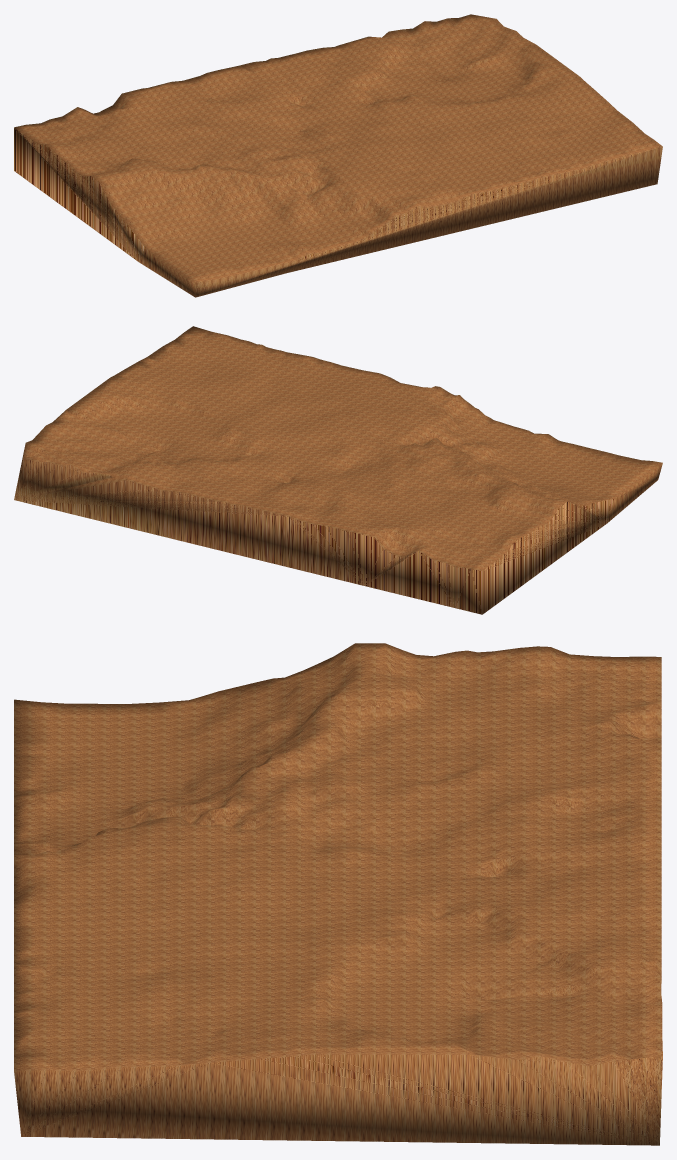
The model's file is Site1.glb.
3 renders of one model, top to bottom at view 1: azimuth 30°, elevation 25°; view 2: azimuth 150°, elevation 25°; view 3: azimuth 270°, elevation 25°, orthographic. The views are drawn at different scales.
Visible parts, largest first — view 1: Cube_Cube.001; view 2: Cube_Cube.001; view 3: Cube_Cube.001.
Boxes of the visible parts, x1,y1,x2,y2 form: Cube_Cube.001: [14, 14, 662, 297]; Cube_Cube.001: [14, 326, 662, 614]; Cube_Cube.001: [14, 643, 662, 1145].
Size of the model in its own units: 27.16 by 2.83 by 18.09.
1 material, 1 textured.
